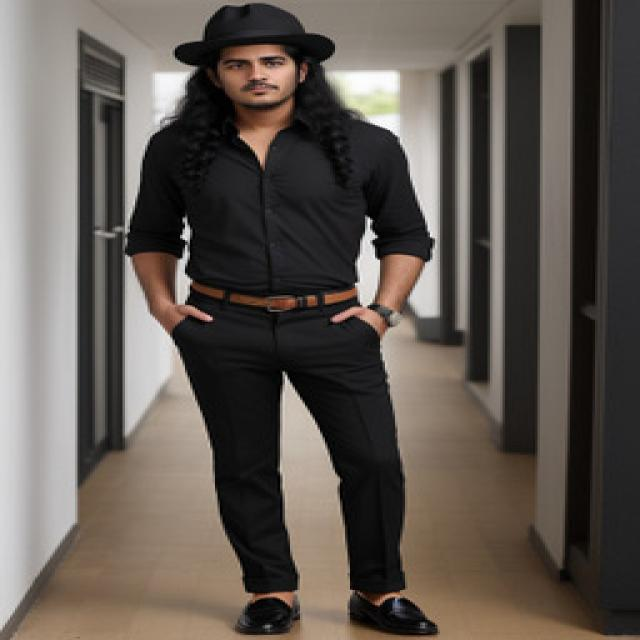Ai human 2: (94, 0, 478, 640)
